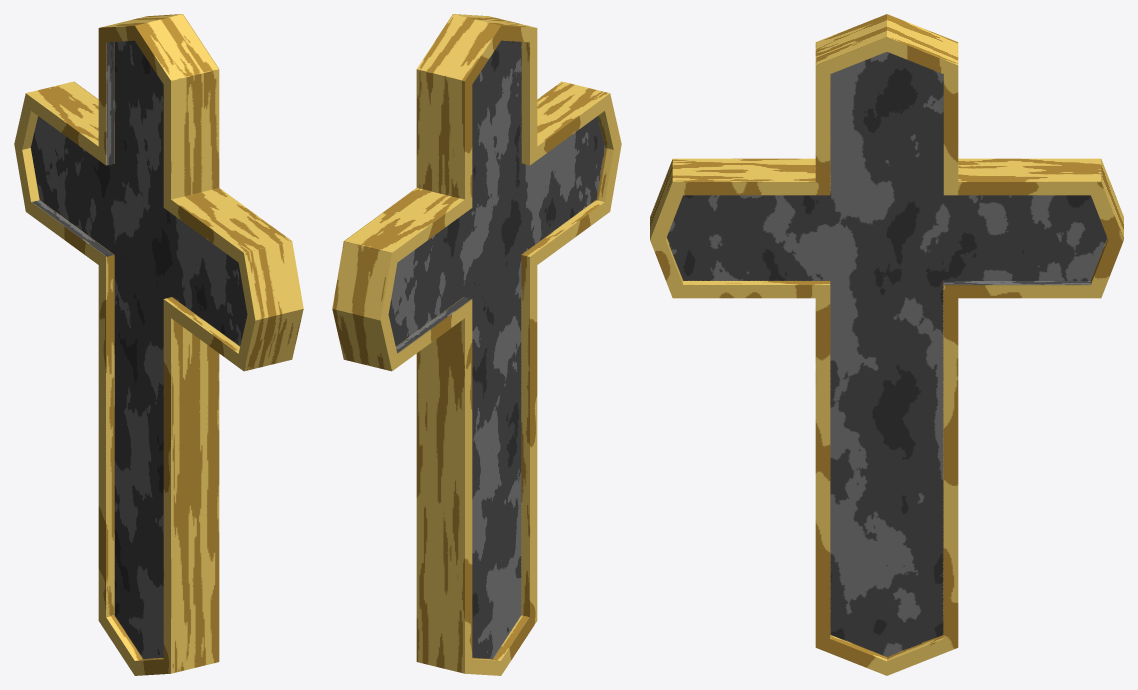
The model's file is hangingcross.fbx.
3 views of the same model, side by side, from view 1: azimuth 30°, elevation 25°; view 2: azimuth 150°, elevation 25°; view 3: azimuth 270°, elevation 25° (orthographic).
Parts seen in each view (by area): view 1: Cube; view 2: Cube; view 3: Cube.
Part boxes in pixels (x1,y1,x2,y2): Cube: (14,14,303,675); Cube: (332,14,621,675); Cube: (650,14,1123,675).
Bounding box in the file's own units: 47.72 × 614 × 413.
1 material, 1 textured.
